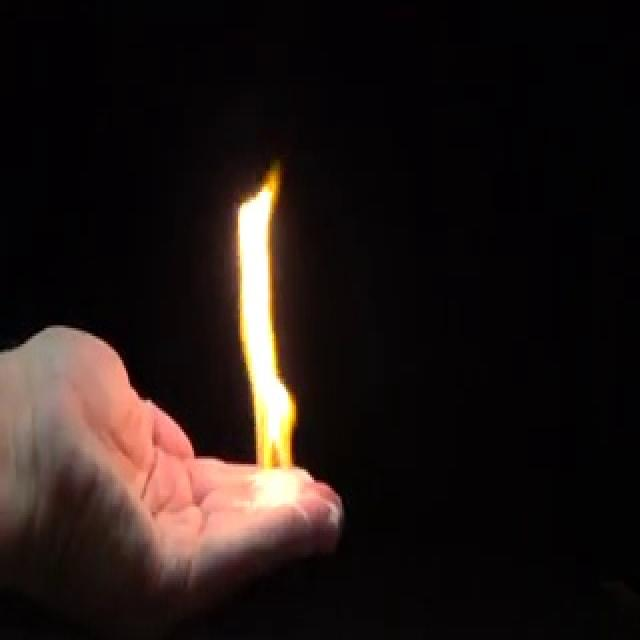fire: (225, 154, 310, 514)
